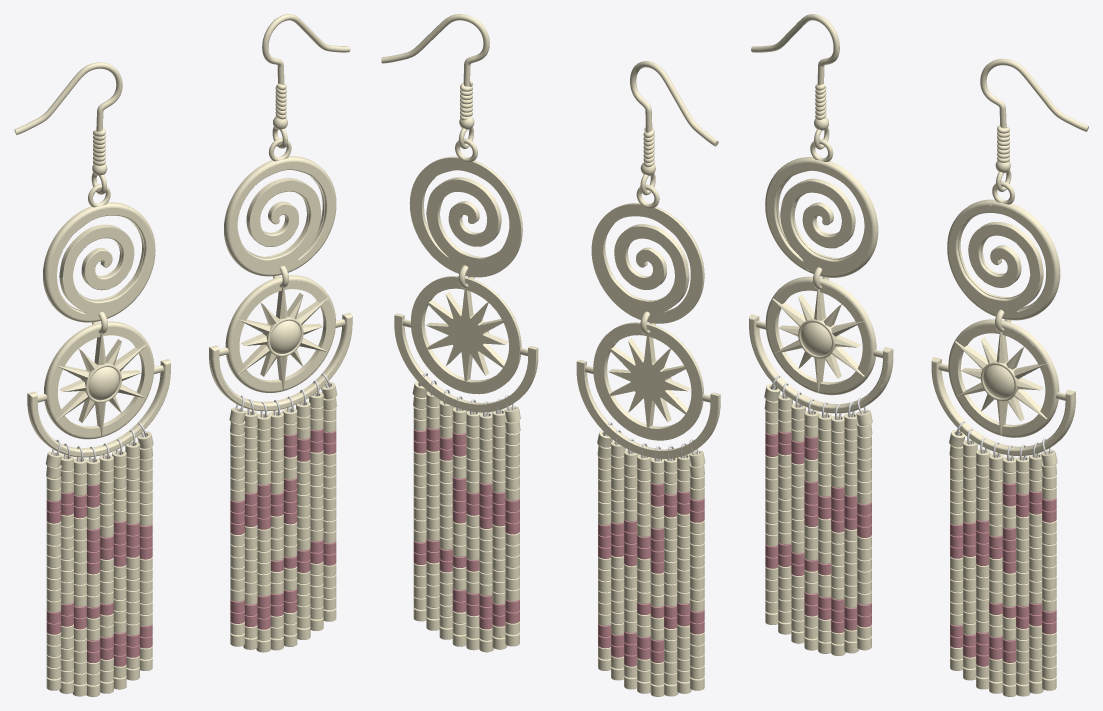
File: bilekliktohiddeneme_compressed.glb
3 renders of one model, left to right at view 1: azimuth 30°, elevation 25°; view 2: azimuth 150°, elevation 25°; view 3: azimuth 330°, elevation 25°, orthographic.
Bounding box in the file's own units: 42.11 × 75.93 × 3.93.
